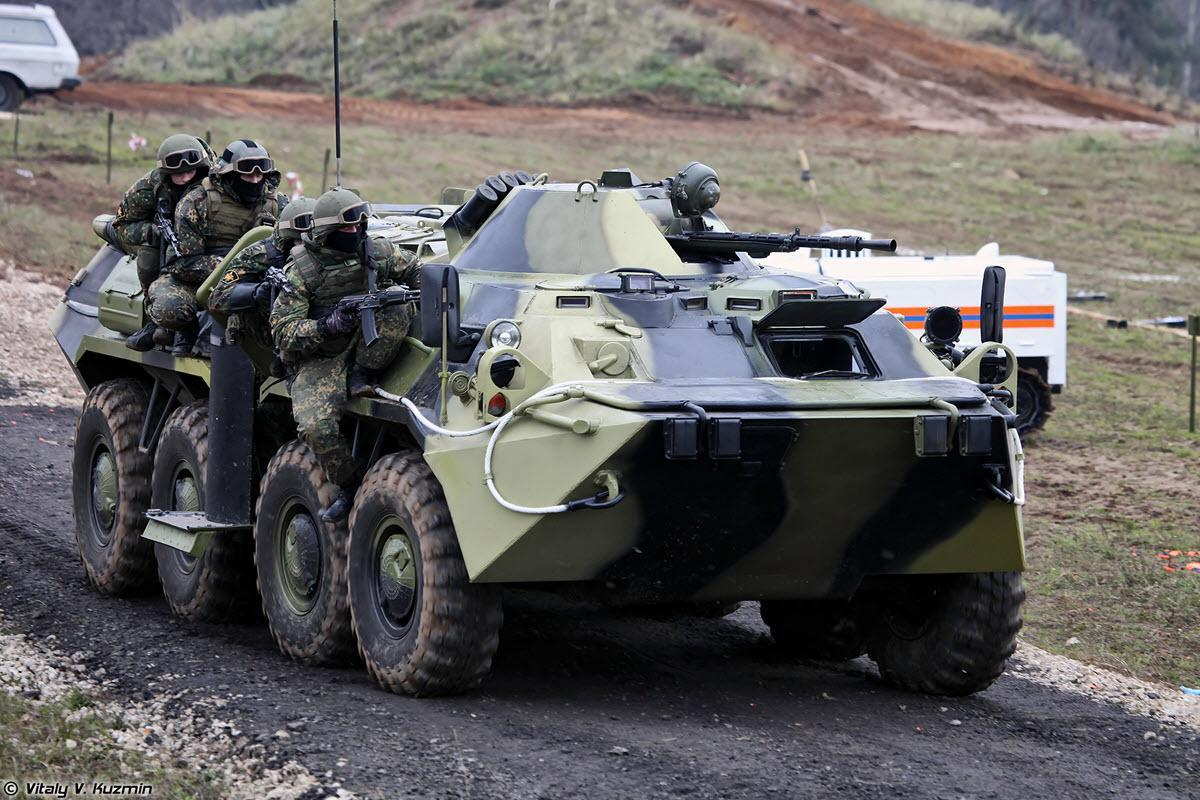person: (269, 190, 450, 520), (144, 144, 300, 345), (111, 140, 215, 317)
tank: (55, 176, 1047, 698)
